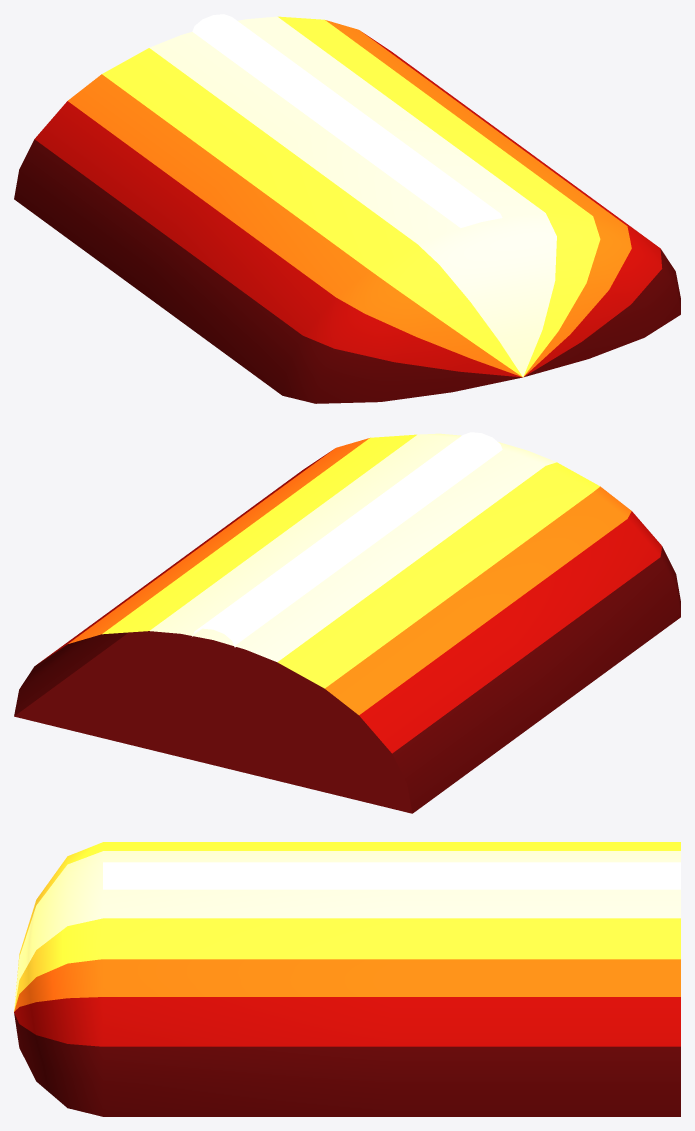
The model's file is shot_laser_290.glb.
3 renders of one model, top to bottom at view 1: azimuth 30°, elevation 25°; view 2: azimuth 150°, elevation 25°; view 3: azimuth 270°, elevation 25°, orthographic. The views are drawn at different scales.
Visible parts, largest first — view 1: shot_laser_290_rod, shot_laser_290_core0; view 2: shot_laser_290_rod, shot_laser_290_core0; view 3: shot_laser_290_rod, shot_laser_290_core0.
Boxes of the visible parts, x1,y1,x2,y2 form: shot_laser_290_rod: (14,16,680,403); shot_laser_290_core0: (192,14,502,227); shot_laser_290_rod: (14,433,680,813); shot_laser_290_core0: (192,432,502,647); shot_laser_290_rod: (14,842,680,1116); shot_laser_290_core0: (103,862,680,889).
Bounding box in the file's own units: 12 × 3.9 × 16.16.
